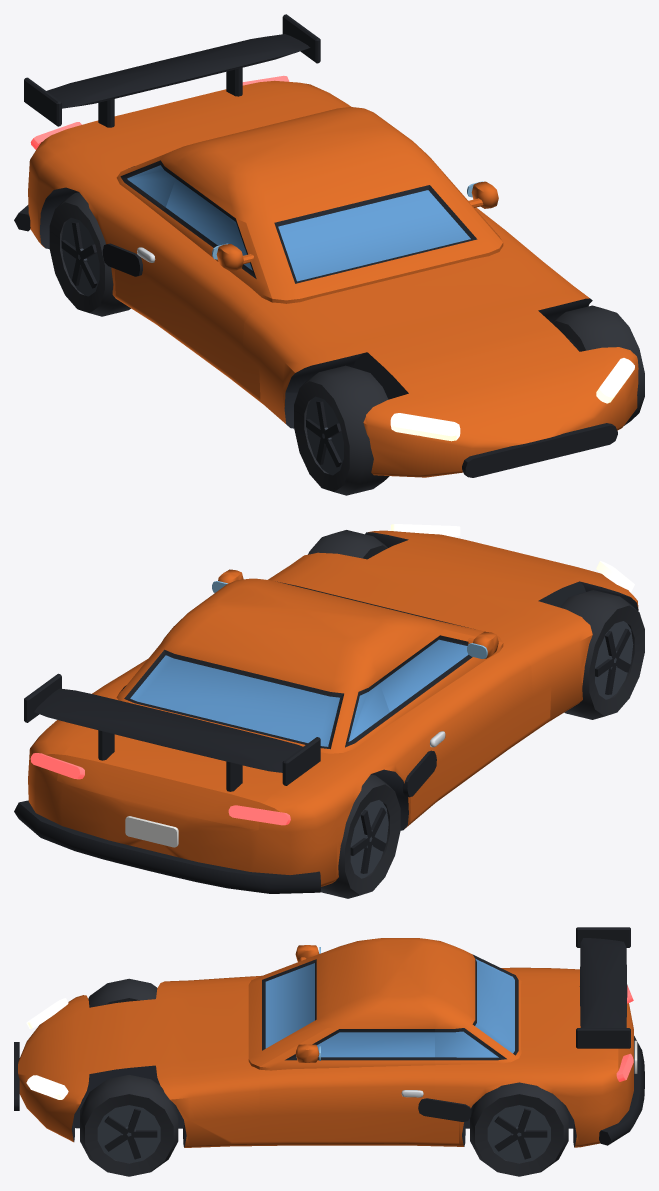
File: esportivo_aerofolio_laranja.glb
3 renders of one model, top to bottom at view 1: azimuth 30°, elevation 25°; view 2: azimuth 150°, elevation 25°; view 3: azimuth 270°, elevation 25°, orthographic. The views are drawn at different scales.
Parts seen in each view (by area): view 1: esportivo_aerofolio_laranja, porta_dianteira_esq, porta_malas, roda_dianteira_esq, roda_traseira_esq, roda_dianteira_dir, porta_dianteira_dir; view 2: esportivo_aerofolio_laranja, porta_dianteira_esq, porta_malas, roda_dianteira_esq, roda_traseira_esq, roda_dianteira_dir; view 3: esportivo_aerofolio_laranja, porta_dianteira_dir, roda_dianteira_dir, roda_traseira_dir, porta_malas, roda_dianteira_esq.
Part boxes in pixels (x1=…): esportivo_aerofolio_laranja: x1=14, y1=14, x2=638, y2=477; porta_dianteira_esq: x1=131, y1=175, x2=296, y2=384; porta_malas: x1=63, y1=82, x2=314, y2=162; roda_dianteira_esq: x1=294, y1=365, x2=389, y2=495; roda_traseira_esq: x1=49, y1=192, x2=130, y2=316; roda_dianteira_dir: x1=552, y1=305, x2=644, y2=425; porta_dianteira_dir: x1=428, y1=169, x2=524, y2=246; esportivo_aerofolio_laranja: x1=14, y1=524, x2=638, y2=893; porta_dianteira_esq: x1=379, y1=629, x2=532, y2=809; porta_malas: x1=57, y1=728, x2=283, y2=829; roda_dianteira_esq: x1=560, y1=590, x2=644, y2=719; roda_traseira_esq: x1=320, y1=774, x2=400, y2=898; roda_dianteira_dir: x1=308, y1=530, x2=387, y2=559; esportivo_aerofolio_laranja: x1=14, y1=927, x2=644, y2=1147; porta_dianteira_dir: x1=259, y1=1028, x2=434, y2=1141; roda_dianteira_dir: x1=80, y1=1075, x2=178, y2=1176; roda_traseira_dir: x1=470, y1=1082, x2=568, y2=1176; porta_malas: x1=536, y1=978, x2=631, y2=1075; roda_dianteira_esq: x1=88, y1=978, x2=157, y2=1007.
Size of the model in its own units: 2.02 by 1.24 by 4.5.
4 materials, 1 textured.
